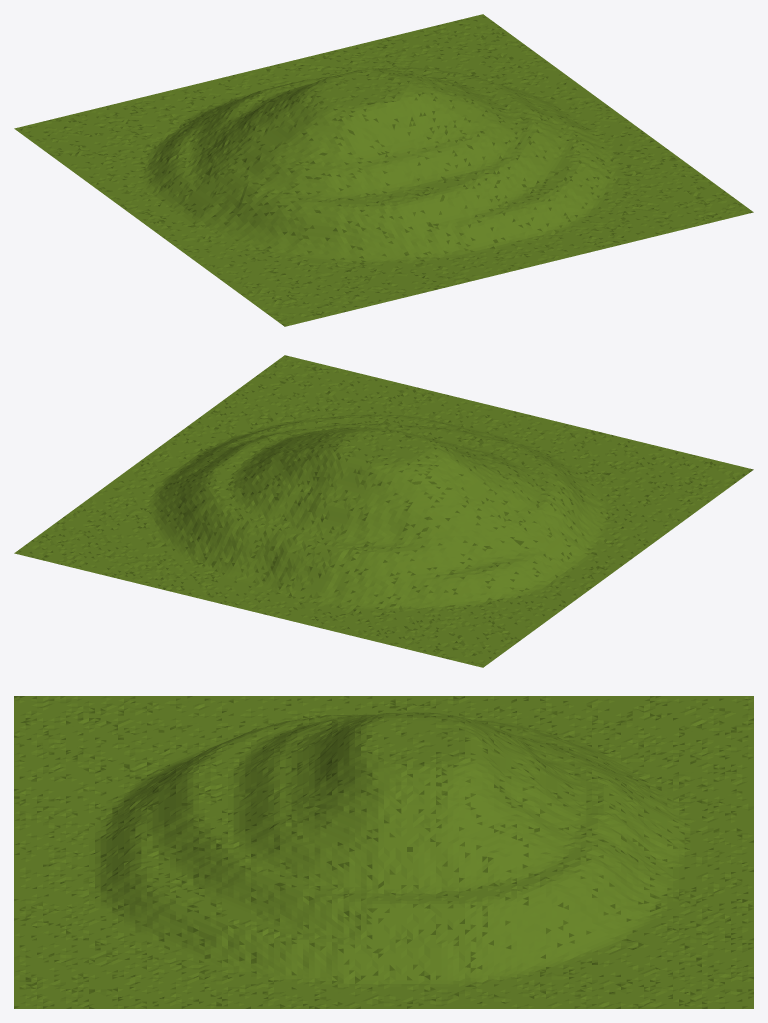
The model's file is mesh_terrain_medium_04.fbx.
The picture shows the model from 3 angles, top to bottom: view 1: azimuth 30°, elevation 25°; view 2: azimuth 150°, elevation 25°; view 3: azimuth 270°, elevation 25°; orthographic projection. The views are drawn at different scales.
Visible parts, largest first — view 1: mesh_terrain_medium_04; view 2: mesh_terrain_medium_04; view 3: mesh_terrain_medium_04.
Part boxes in pixels (x1,y1,x2,y2): mesh_terrain_medium_04: [14, 14, 753, 326]; mesh_terrain_medium_04: [14, 355, 753, 667]; mesh_terrain_medium_04: [14, 696, 753, 1008].
Size of the model in its own units: 50 by 7.78 by 50.
